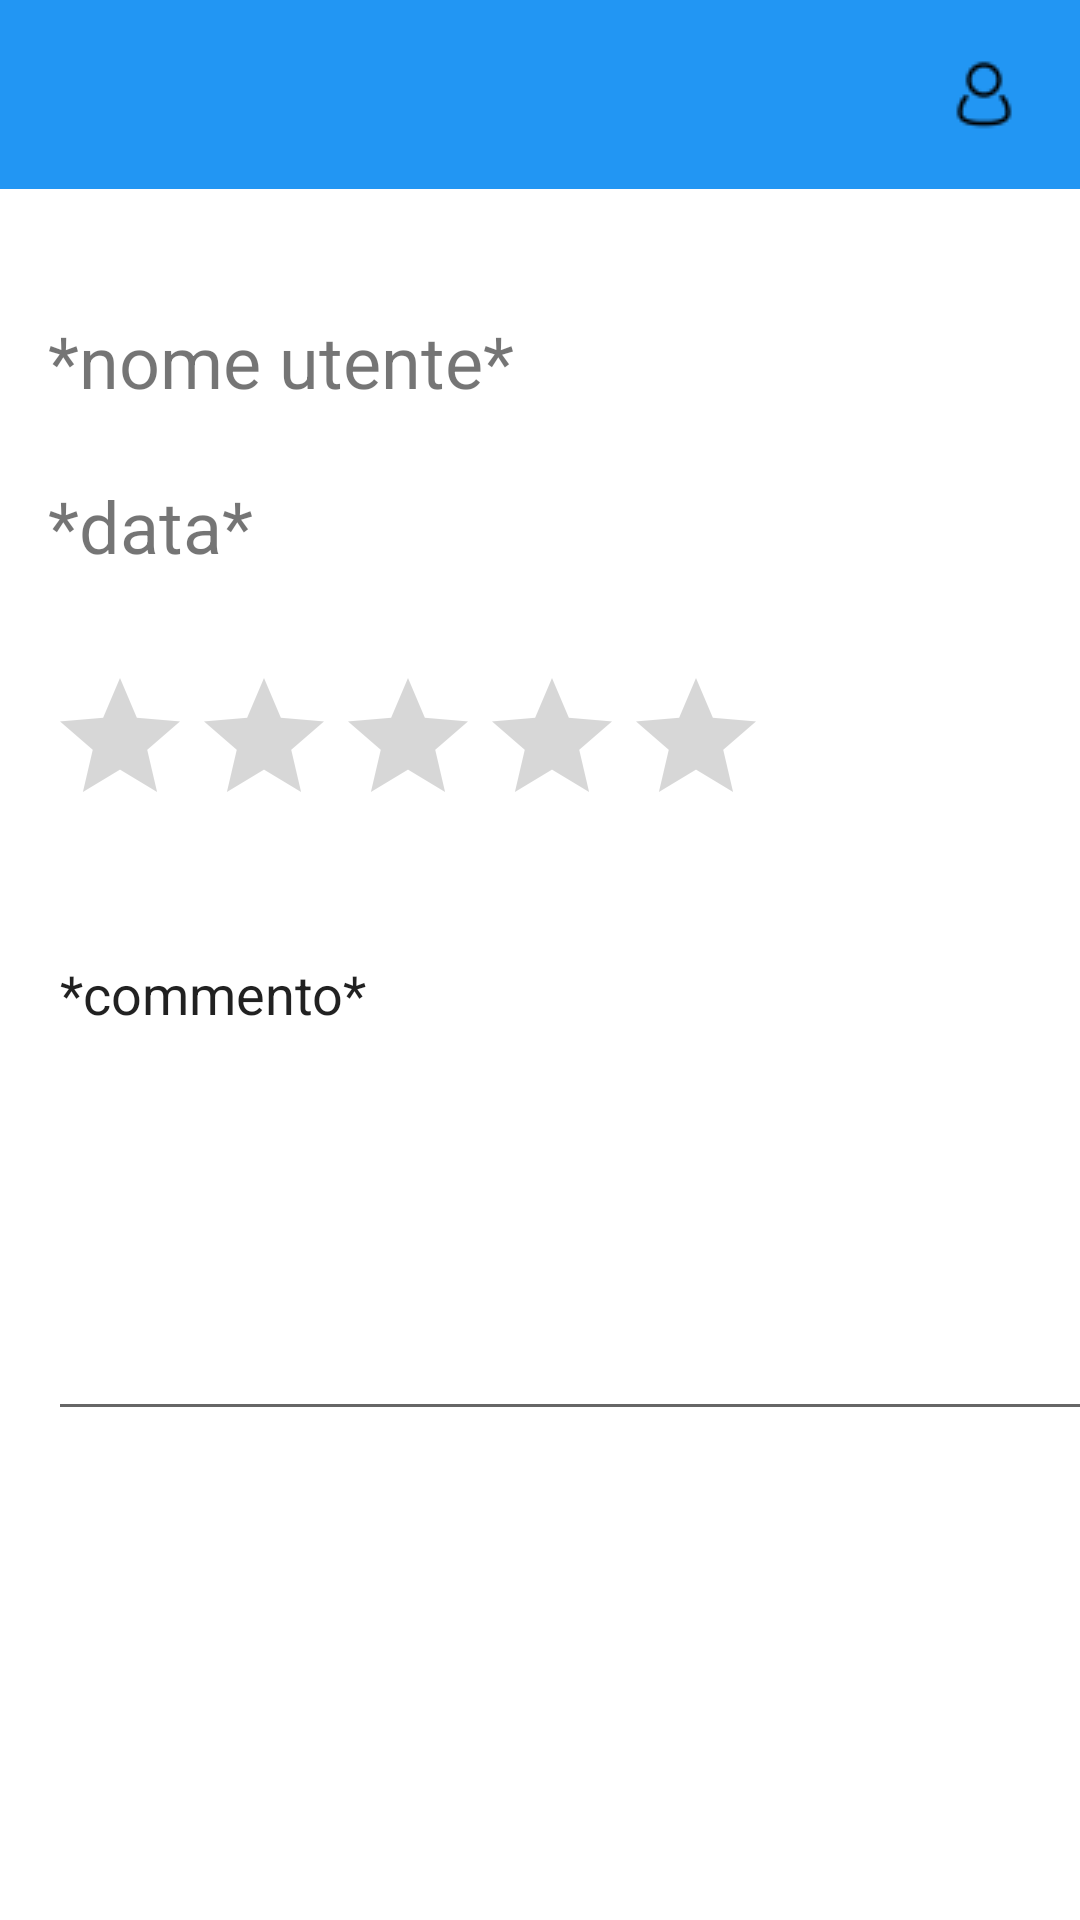

Icon bounding boxes for this 1080x1920 phone screenshot, format (x1, y1, x2, y2):
usericon: (956, 61, 1012, 128)
